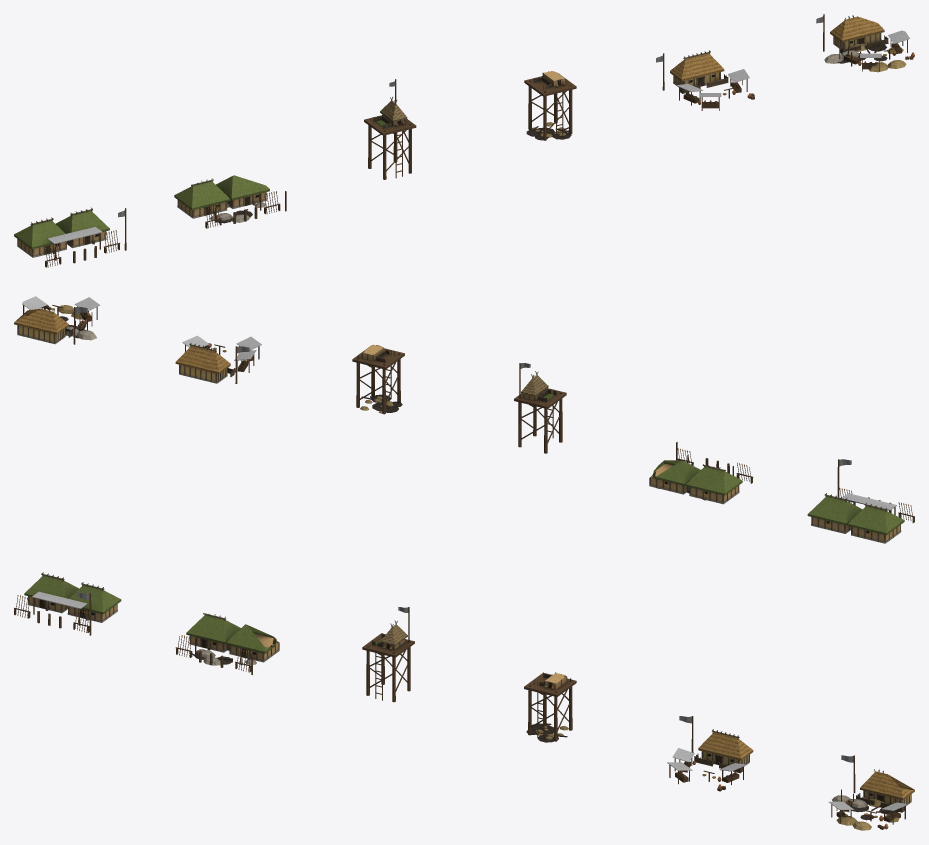
File: rts-bronze-europe.glb
3 views of the same model, one above another, from view 1: azimuth 30°, elevation 25°; view 2: azimuth 150°, elevation 25°; view 3: azimuth 330°, elevation 25° (orthographic).
Visible parts, largest first — view 1: LOD0.001, LOD0, LOD0.005, LOD0.004, LOD0.003, LOD0.002; view 2: LOD0, LOD0.001, LOD0.005, LOD0.004, LOD0.003, LOD0.002; view 3: LOD0.001, LOD0, LOD0.005, LOD0.004, LOD0.003, LOD0.002.
Part boxes in pixels (box(x1,y1,x2,y2)): LOD0.001: box(174, 175, 286, 228); LOD0: box(14, 207, 126, 267); LOD0.005: box(816, 14, 914, 72); LOD0.004: box(656, 50, 754, 110); LOD0.003: box(524, 71, 576, 140); LOD0.002: box(364, 79, 416, 179); LOD0: box(807, 459, 914, 543); LOD0.001: box(649, 442, 753, 504); LOD0.005: box(14, 296, 100, 344); LOD0.004: box(175, 335, 261, 383); LOD0.003: box(352, 344, 404, 414); LOD0.002: box(514, 363, 566, 453); LOD0.001: box(175, 613, 279, 674); LOD0: box(14, 572, 121, 635); LOD0.005: box(829, 755, 914, 830); LOD0.004: box(667, 716, 753, 791); LOD0.003: box(524, 672, 576, 742); LOD0.002: box(362, 607, 414, 702).
Size of what is drawn, in the model's own units: 16.35 by 1.48 by 1.36.
Materials: 2 (2 with a texture image).
